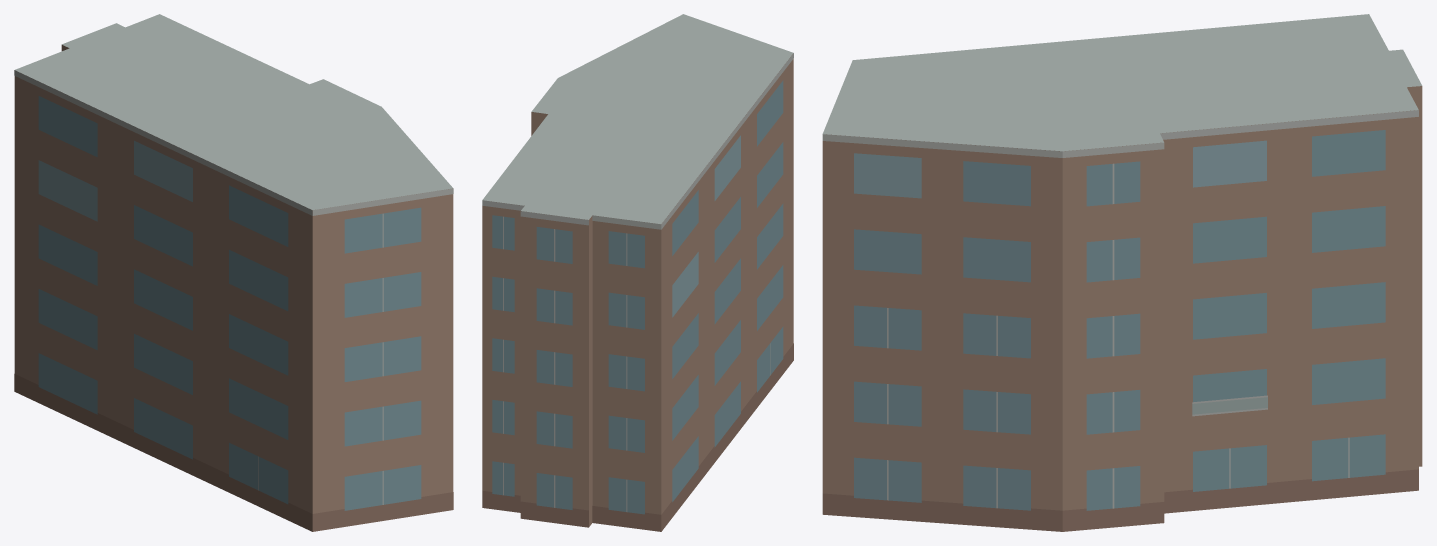
Rendered from survey-upis-32495251.glb.
3 renders of one model, left to right at view 1: azimuth 30°, elevation 25°; view 2: azimuth 150°, elevation 25°; view 3: azimuth 270°, elevation 25°, orthographic. The views are drawn at different scales.
Parts seen in each view (by area): view 1: survey-upis-32495251.tmp; view 2: survey-upis-32495251.tmp; view 3: survey-upis-32495251.tmp.
Boxes of the visible parts, bbox=[...] form: survey-upis-32495251.tmp: bbox=[14, 14, 453, 531]; survey-upis-32495251.tmp: bbox=[482, 14, 793, 531]; survey-upis-32495251.tmp: bbox=[822, 14, 1422, 531].
Bounding box in the file's own units: 10.56 × 13.64 × 19.5.
